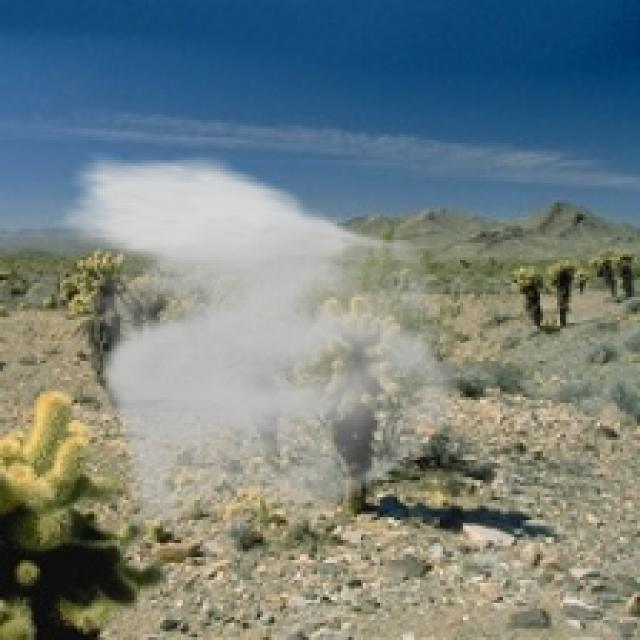smoke: (54, 152, 469, 528)
